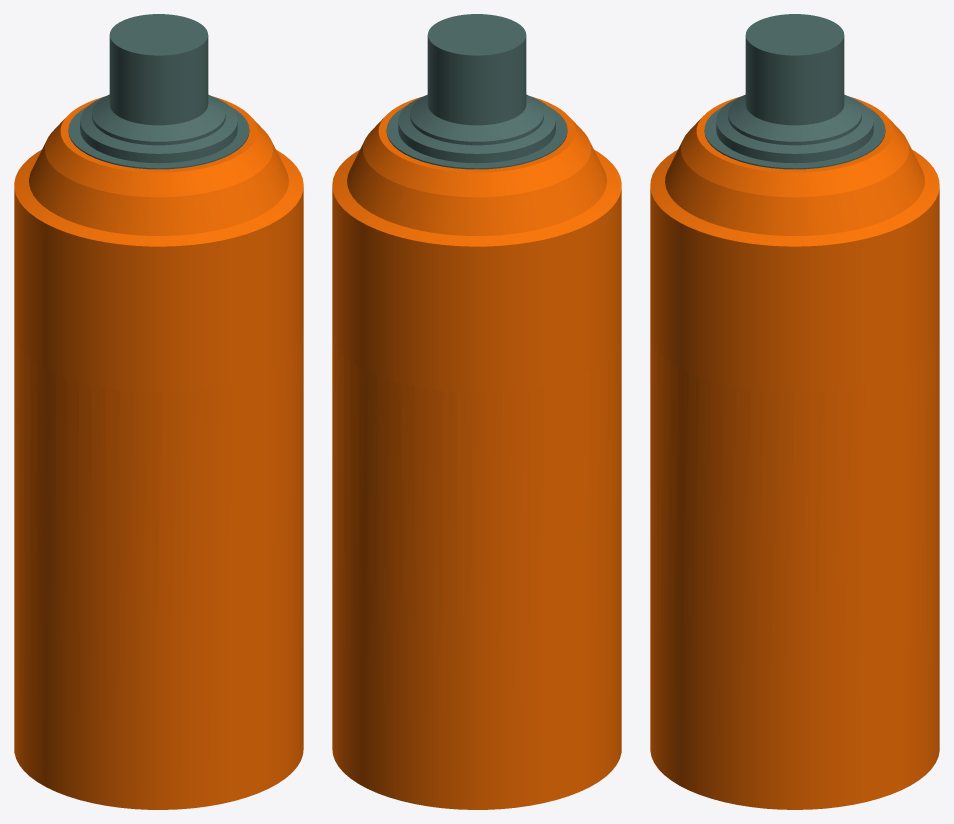
3 views of the same model, side by side, from view 1: azimuth 30°, elevation 25°; view 2: azimuth 150°, elevation 25°; view 3: azimuth 270°, elevation 25° (orthographic).
Visible parts, largest first — view 1: lower_body, neck_collars; view 2: lower_body, neck_collars; view 3: lower_body, neck_collars.
Boxes of the visible parts, x1=… form: lower_body: x1=14, y1=96, x2=303, y2=809; neck_collars: x1=68, y1=14, x2=249, y2=169; lower_body: x1=332, y1=96, x2=621, y2=809; neck_collars: x1=386, y1=14, x2=567, y2=169; lower_body: x1=650, y1=97, x2=939, y2=809; neck_collars: x1=704, y1=14, x2=885, y2=169.
Size of the model in its own units: 0.0735 by 0.2 by 0.0735.
